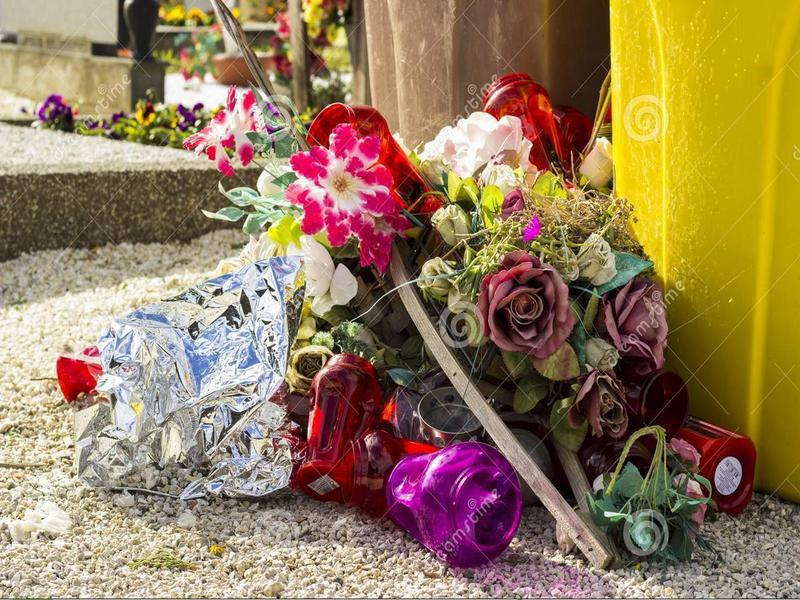flowers: (413, 115, 658, 450), (177, 74, 423, 385), (17, 79, 208, 152)
plastic: (61, 254, 305, 506)
